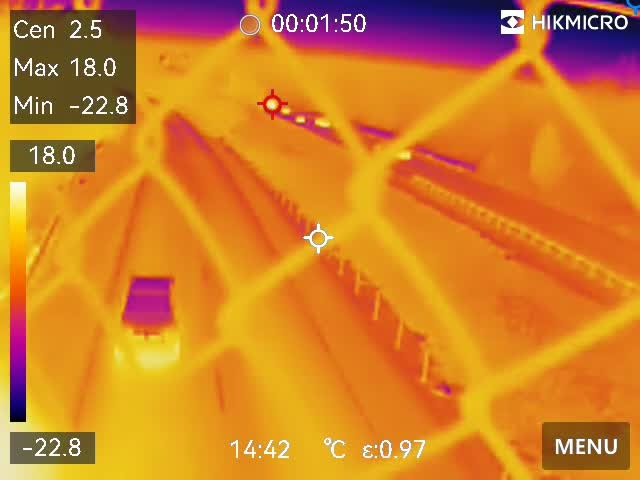vehicle: (119, 270, 180, 365), (312, 118, 334, 131), (296, 112, 306, 125)
